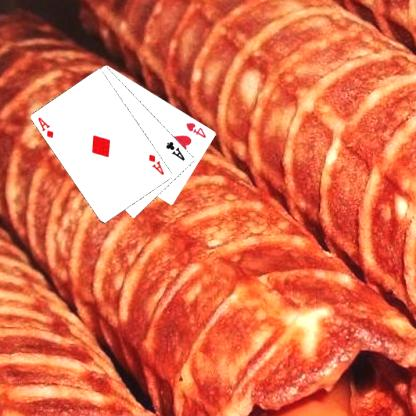4H: (184, 119, 208, 140)
AC: (164, 139, 186, 162)
AD: (36, 115, 56, 140), (146, 152, 166, 176)
